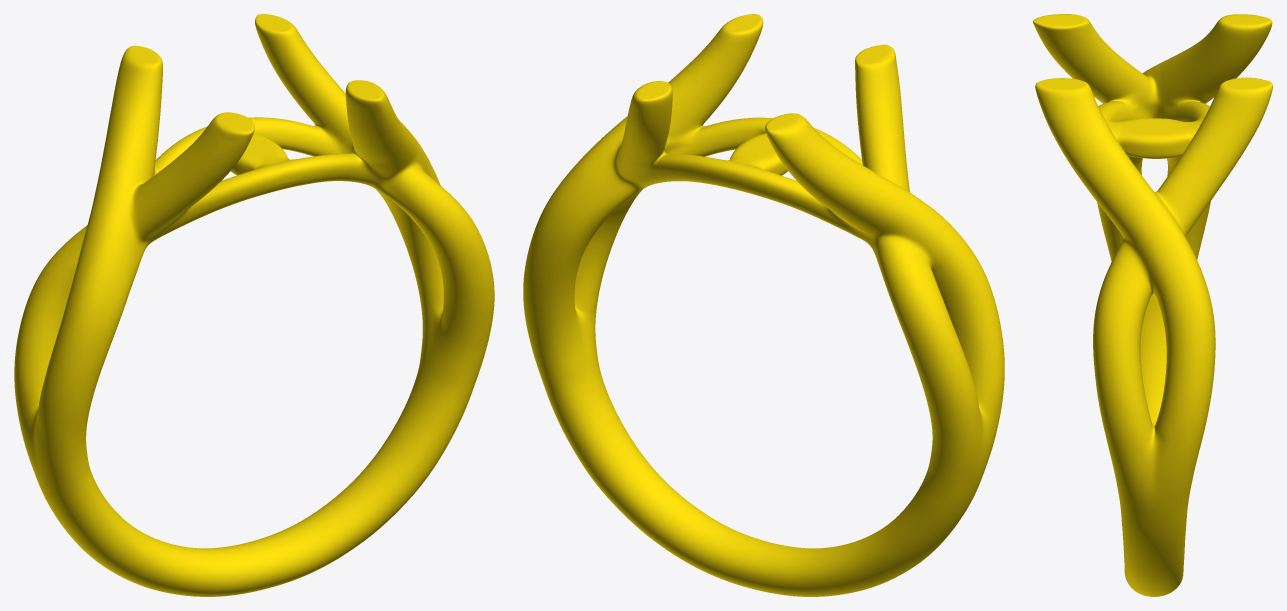
Rendered from Shank_Twist_Plain Gold_B_Single Halo_Band.glb.
The picture shows the model from 3 angles, left to right: view 1: azimuth 30°, elevation 25°; view 2: azimuth 150°, elevation 25°; view 3: azimuth 270°, elevation 25°; orthographic projection.
Size of the model in its own units: 0.0216 by 0.0236 by 0.00991.
